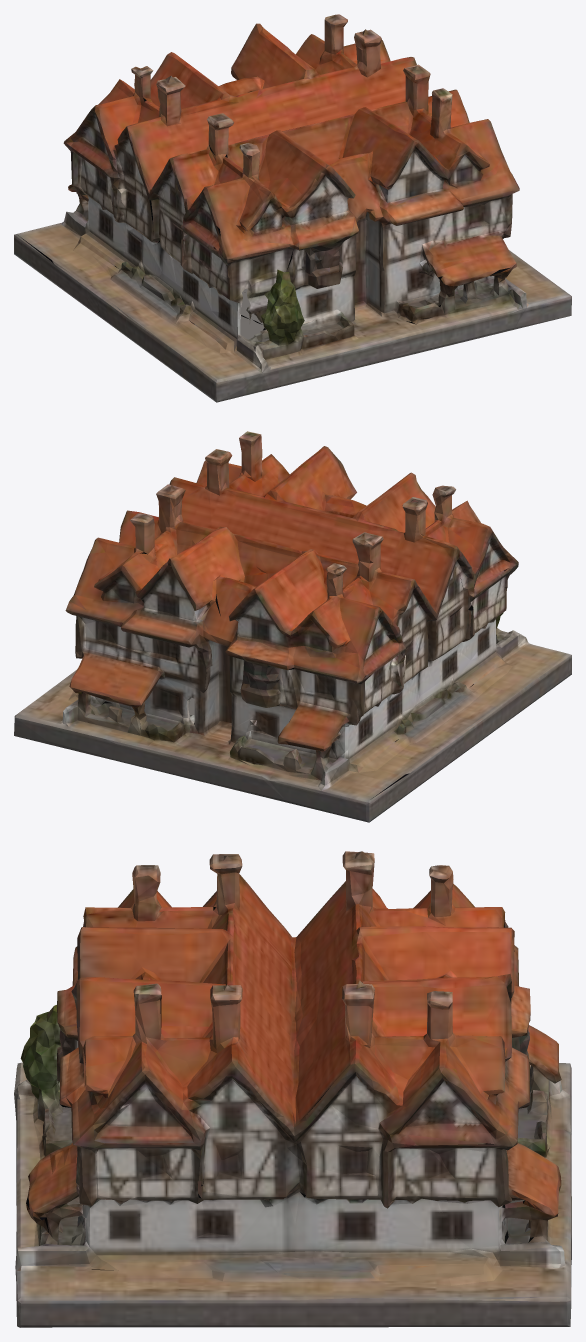
The model's file is village_block_a_lod0.glb.
The picture shows the model from 3 angles, top to bottom: view 1: azimuth 30°, elevation 25°; view 2: azimuth 150°, elevation 25°; view 3: azimuth 270°, elevation 25°; orthographic projection. The views are drawn at different scales.
Visible parts, largest first — view 1: village_block_a_lod0; view 2: village_block_a_lod0; view 3: village_block_a_lod0.
Boxes of the visible parts, bbox=[...] form: village_block_a_lod0: bbox=[14, 14, 571, 402]; village_block_a_lod0: bbox=[14, 431, 571, 822]; village_block_a_lod0: bbox=[14, 851, 571, 1327].
Size of the model in its own units: 20.17 by 11.64 by 19.98.
Materials: 1 (1 with a texture image).
